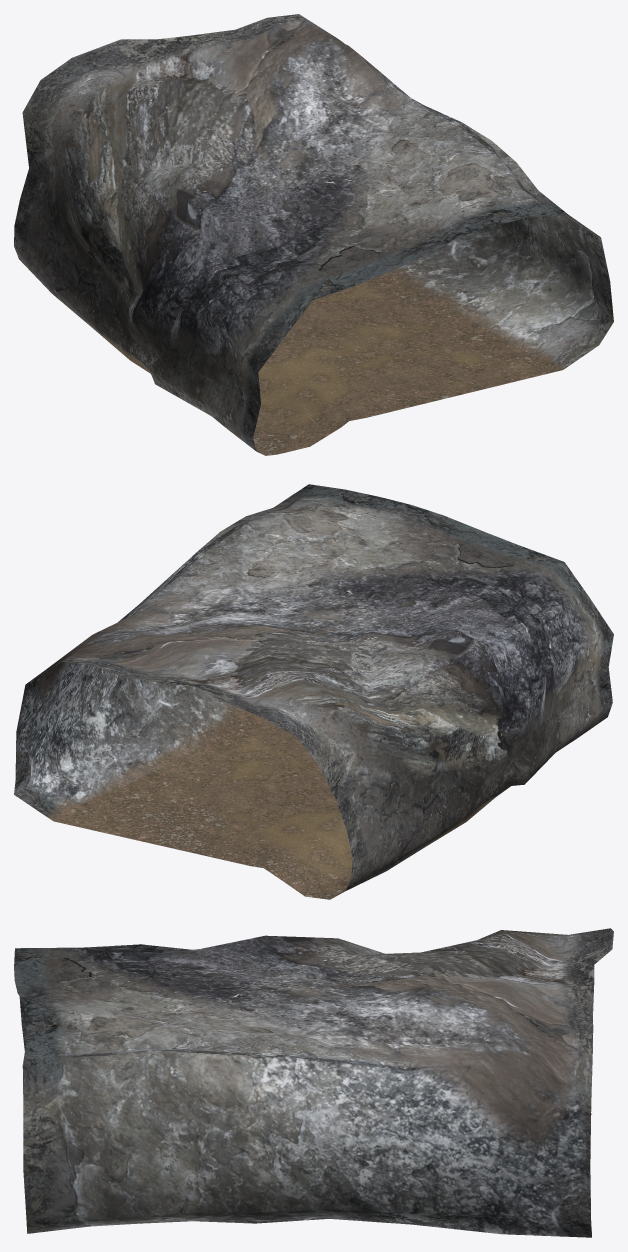
The model's file is piece.obj.
The picture shows the model from 3 angles, top to bottom: view 1: azimuth 30°, elevation 25°; view 2: azimuth 150°, elevation 25°; view 3: azimuth 270°, elevation 25°; orthographic projection. The views are drawn at different scales.
Visible parts, largest first — view 1: TunnelA3; view 2: TunnelA3; view 3: TunnelA3.
Part boxes in pixels (x1,y1,x2,y2): TunnelA3: (14, 14, 613, 455); TunnelA3: (14, 484, 613, 899); TunnelA3: (14, 928, 613, 1237).
Bounding box in the file's own units: 4.31 × 2.14 × 5.52.
1 material, 1 textured.
